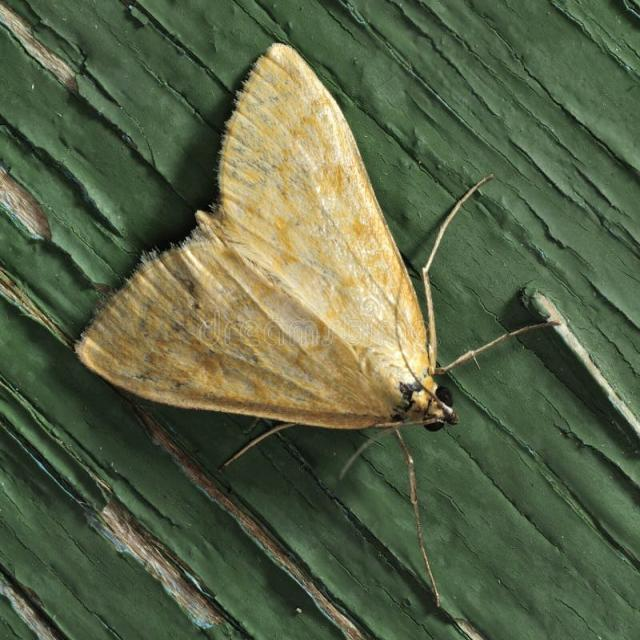cornborer-Adult-: (60, 26, 504, 482)
